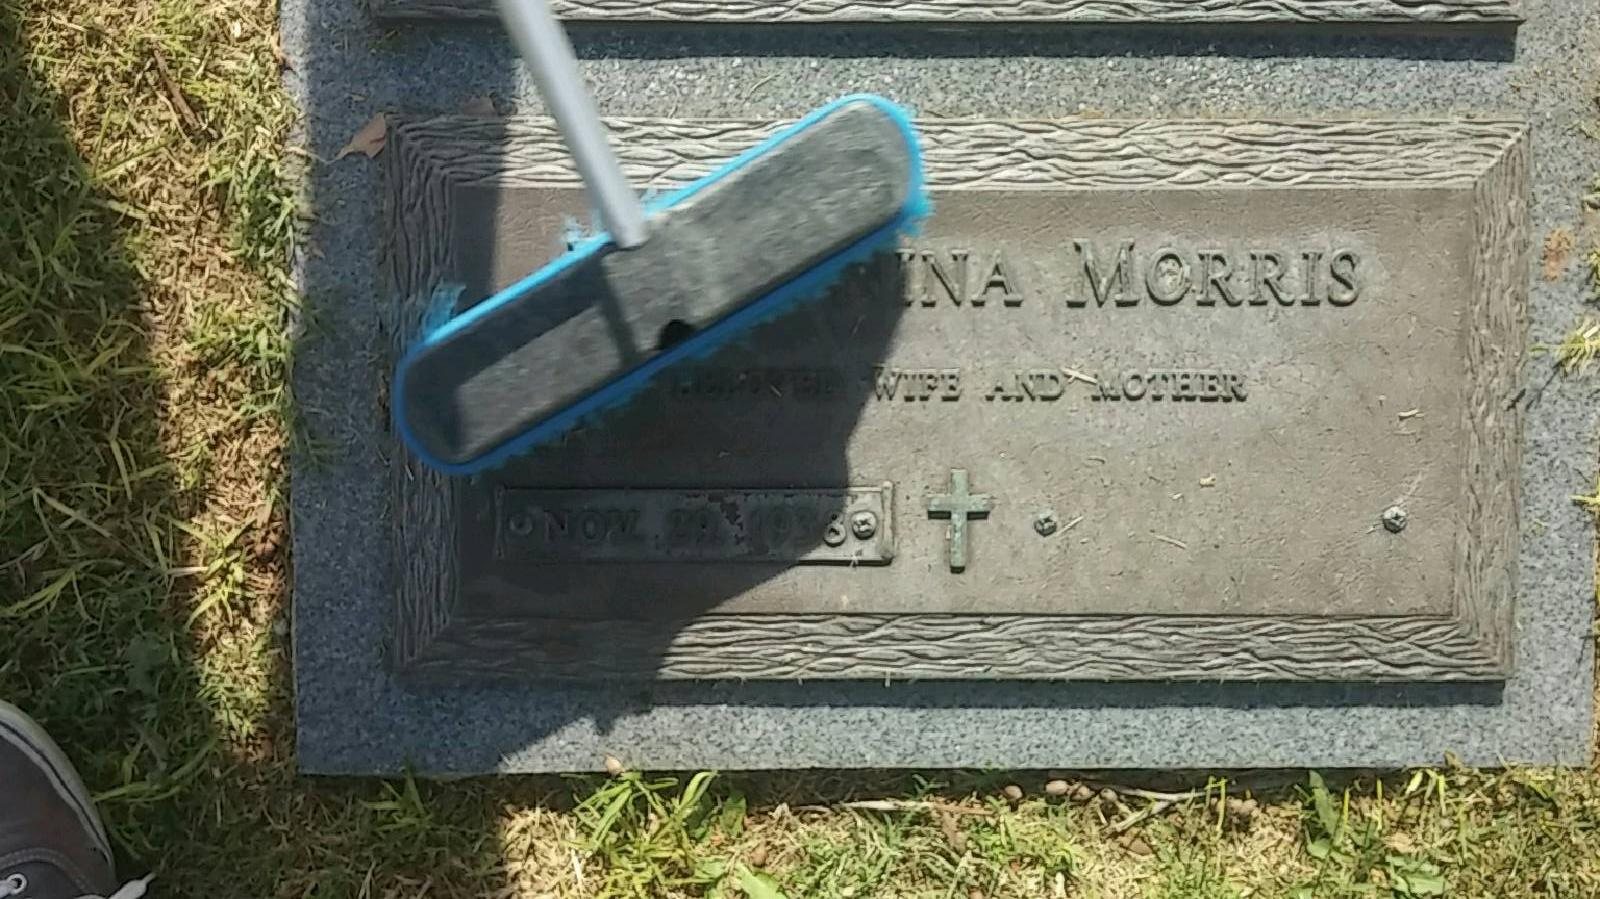flat: (258, 0, 1599, 793)
